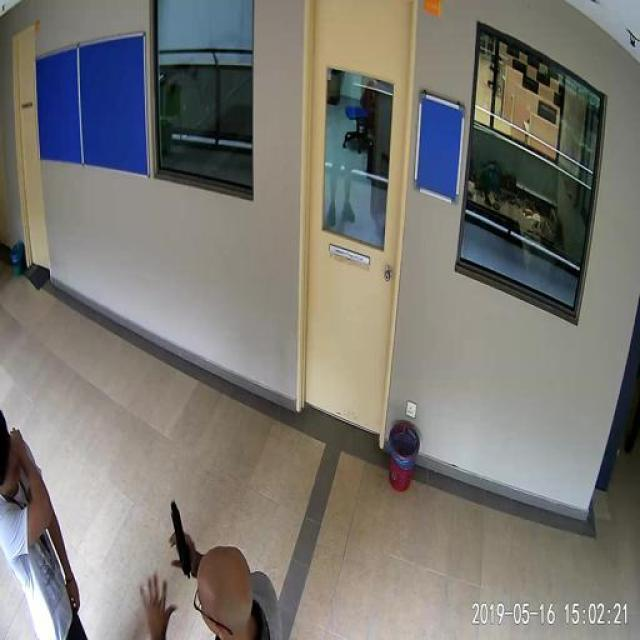Gun: (160, 497, 197, 576)
